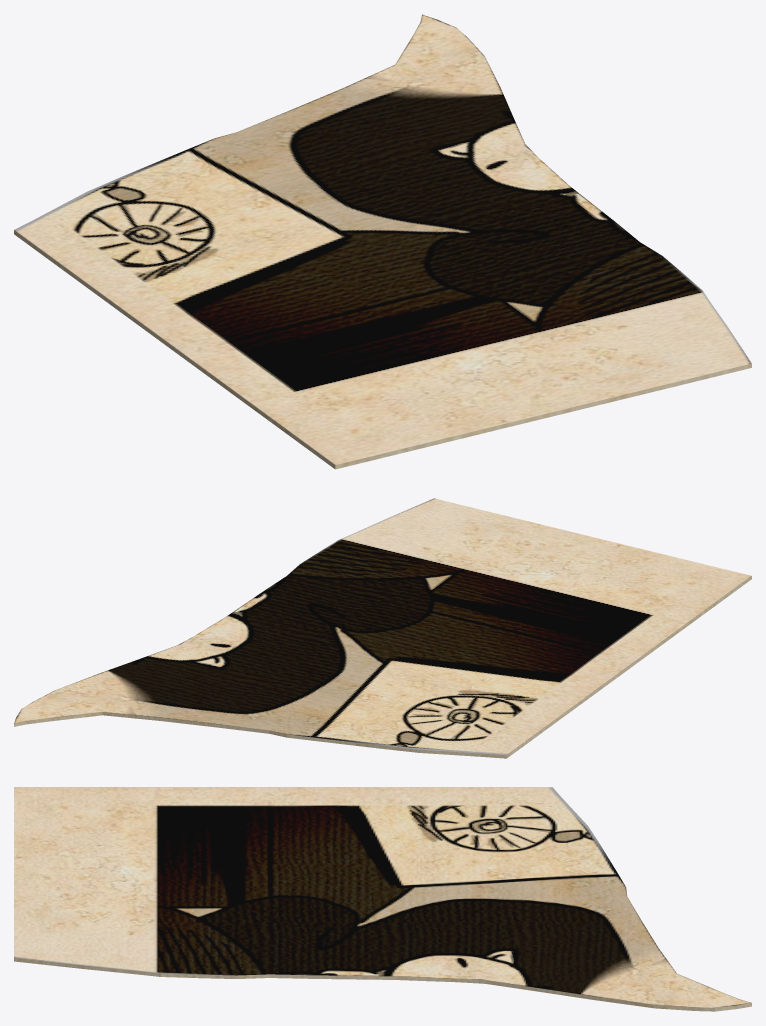
Rendered from Photo 3.fbx.
The picture shows the model from 3 angles, top to bottom: view 1: azimuth 30°, elevation 25°; view 2: azimuth 150°, elevation 25°; view 3: azimuth 270°, elevation 25°; orthographic projection. The views are drawn at different scales.
Visible parts, largest first — view 1: Plane.003; view 2: Plane.003; view 3: Plane.003.
Part boxes in pixels (<box>): Plane.003: <box>14,14,751,469</box>; Plane.003: <box>14,498,751,758</box>; Plane.003: <box>14,787,751,1011</box>.
Size of the model in its own units: 6.53 by 0.05 by 9.23.
